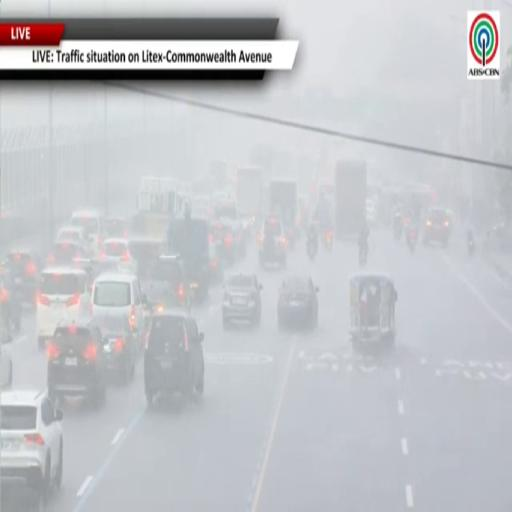car: (0, 391, 63, 509), (144, 310, 204, 407), (47, 318, 107, 405), (36, 267, 90, 348), (91, 272, 145, 339), (93, 315, 140, 383), (141, 255, 190, 313), (222, 274, 262, 329), (278, 277, 318, 330), (3, 251, 40, 306), (129, 236, 166, 279), (258, 215, 288, 268), (71, 210, 106, 255), (98, 238, 136, 274), (211, 219, 241, 264), (0, 272, 22, 332), (424, 207, 452, 246), (48, 240, 92, 264), (0, 332, 13, 389), (56, 226, 89, 246), (209, 236, 223, 283), (191, 196, 212, 219), (105, 217, 129, 237), (366, 199, 377, 225)
motorcycle: (322, 230, 333, 251), (407, 229, 417, 252), (307, 239, 317, 261), (394, 216, 403, 239), (359, 247, 368, 267), (467, 233, 475, 255), (394, 223, 402, 239), (468, 240, 475, 255)
truck: (167, 216, 209, 301), (131, 176, 181, 238), (334, 159, 366, 239), (269, 180, 298, 246), (237, 166, 263, 225), (209, 159, 227, 188)
